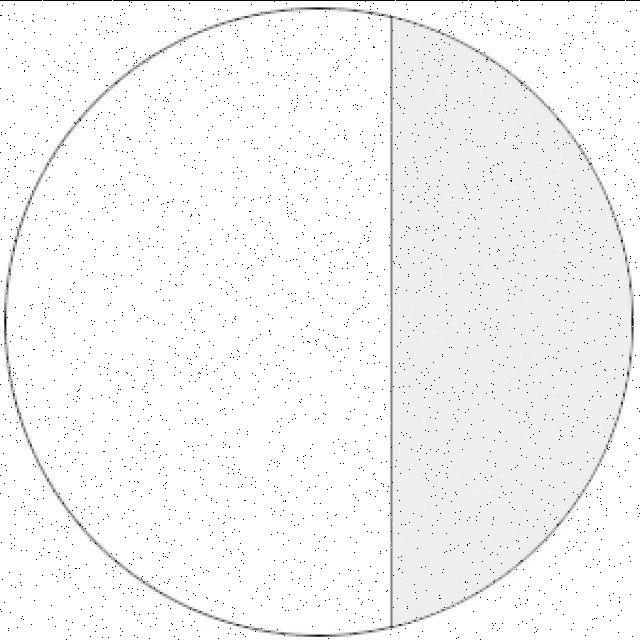Circle: (1, 1, 638, 640)
